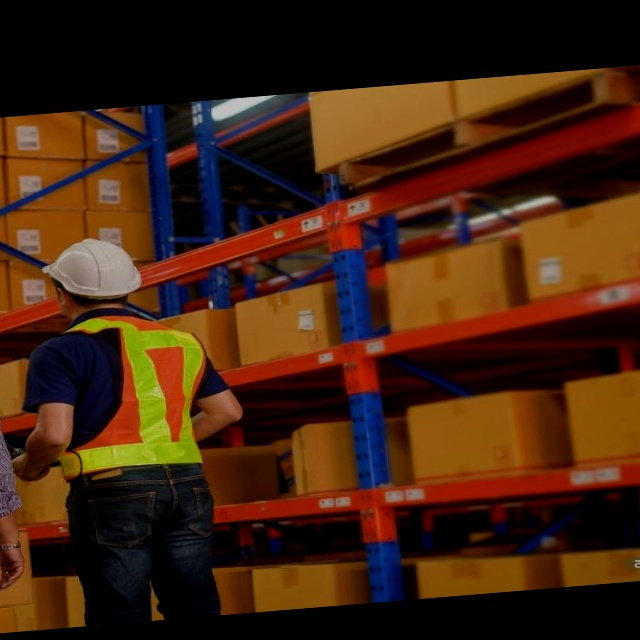Con_Casco: (40, 234, 147, 322)
Con_Chaleco: (42, 311, 213, 473)
